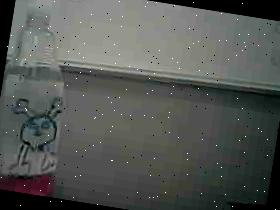hazard: (0, 0, 89, 198)
